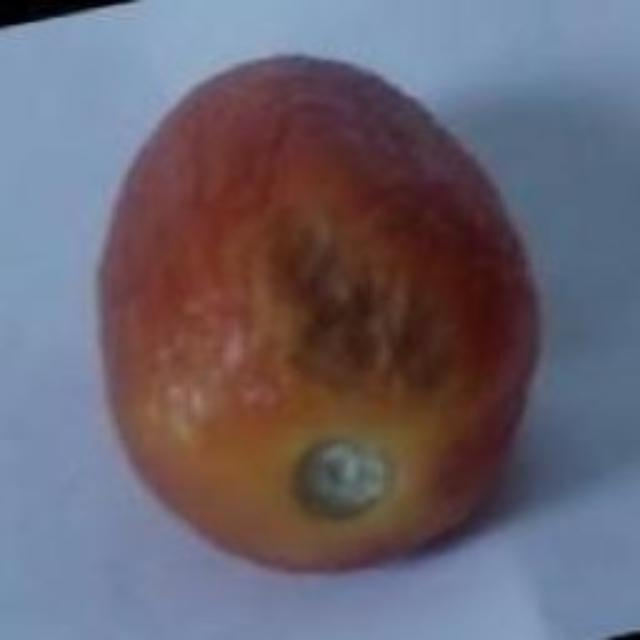defect: (100, 52, 544, 573)
